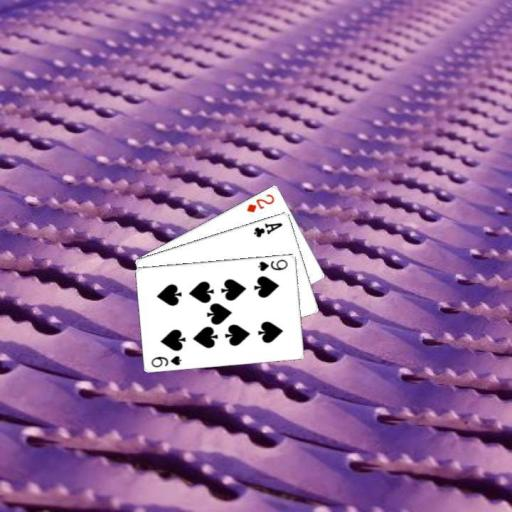2D: (243, 191, 276, 214)
9S: (256, 256, 290, 272), (149, 352, 183, 368)
AC: (250, 219, 284, 239)
